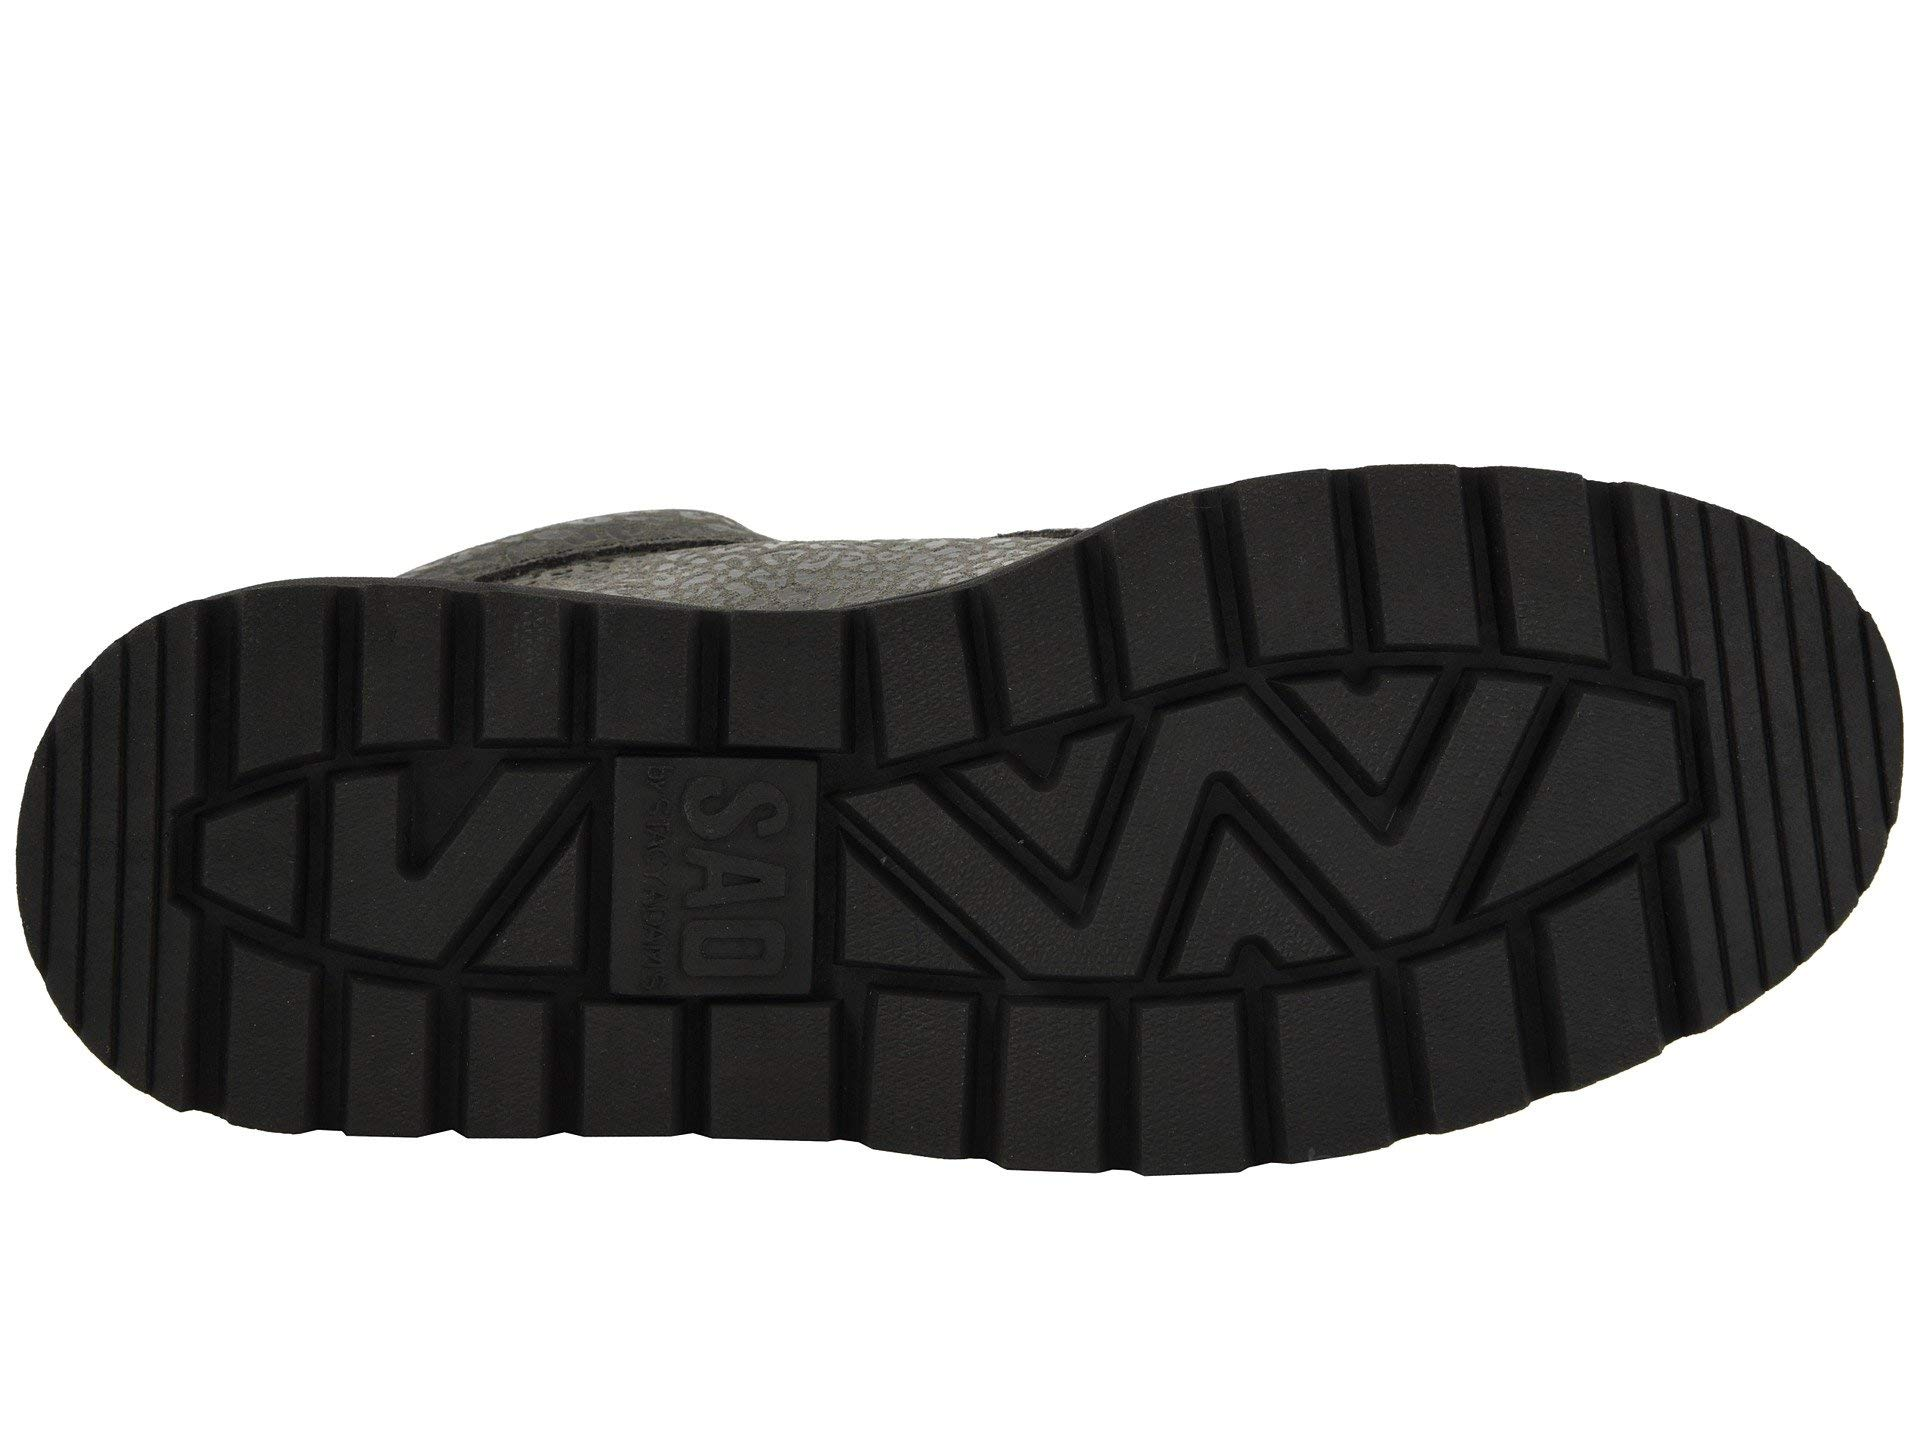chevron: (825, 658, 1705, 989)
circle: (605, 725, 819, 998)
line: (825, 658, 1705, 989), (1686, 498, 1899, 908), (85, 667, 177, 1048)
quad: (186, 747, 605, 982), (1110, 481, 1627, 649), (605, 725, 819, 998)
text: (605, 725, 819, 998)
triangle: (825, 658, 1705, 989), (186, 747, 605, 982)
